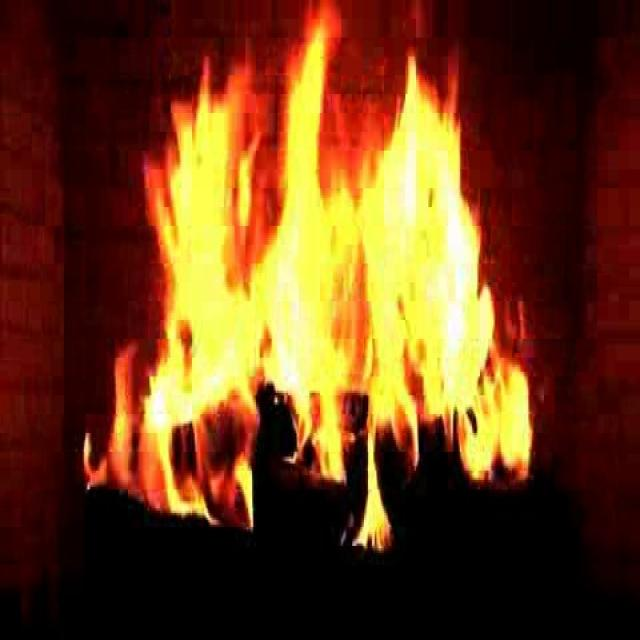fire: (111, 45, 525, 520)
